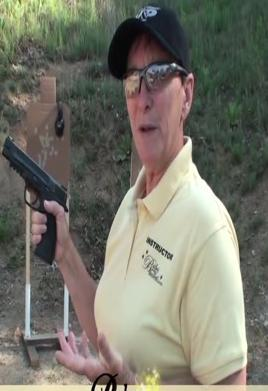pistol: (3, 134, 71, 267)
